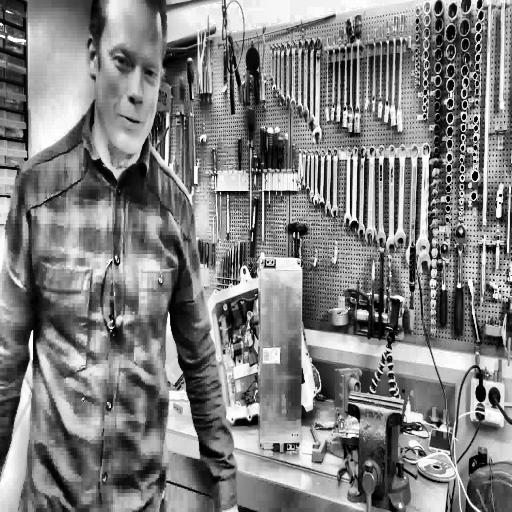battery_module: (260, 268, 302, 443)
